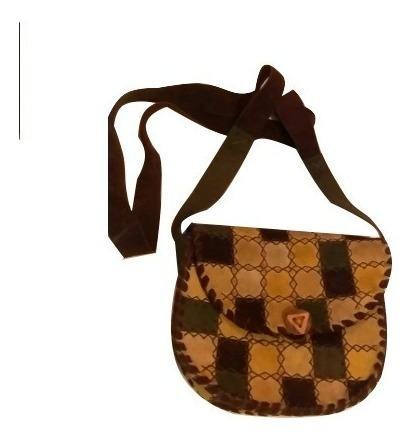cartera: (107, 65, 393, 419)
